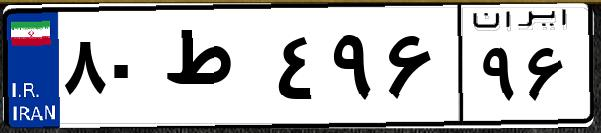0: (110, 28, 158, 98)
4: (270, 28, 330, 110)
6: (385, 28, 445, 110), (525, 38, 570, 115)
8: (57, 26, 110, 100)
9: (330, 28, 385, 110), (475, 38, 525, 113)
ط: (158, 20, 270, 120)
